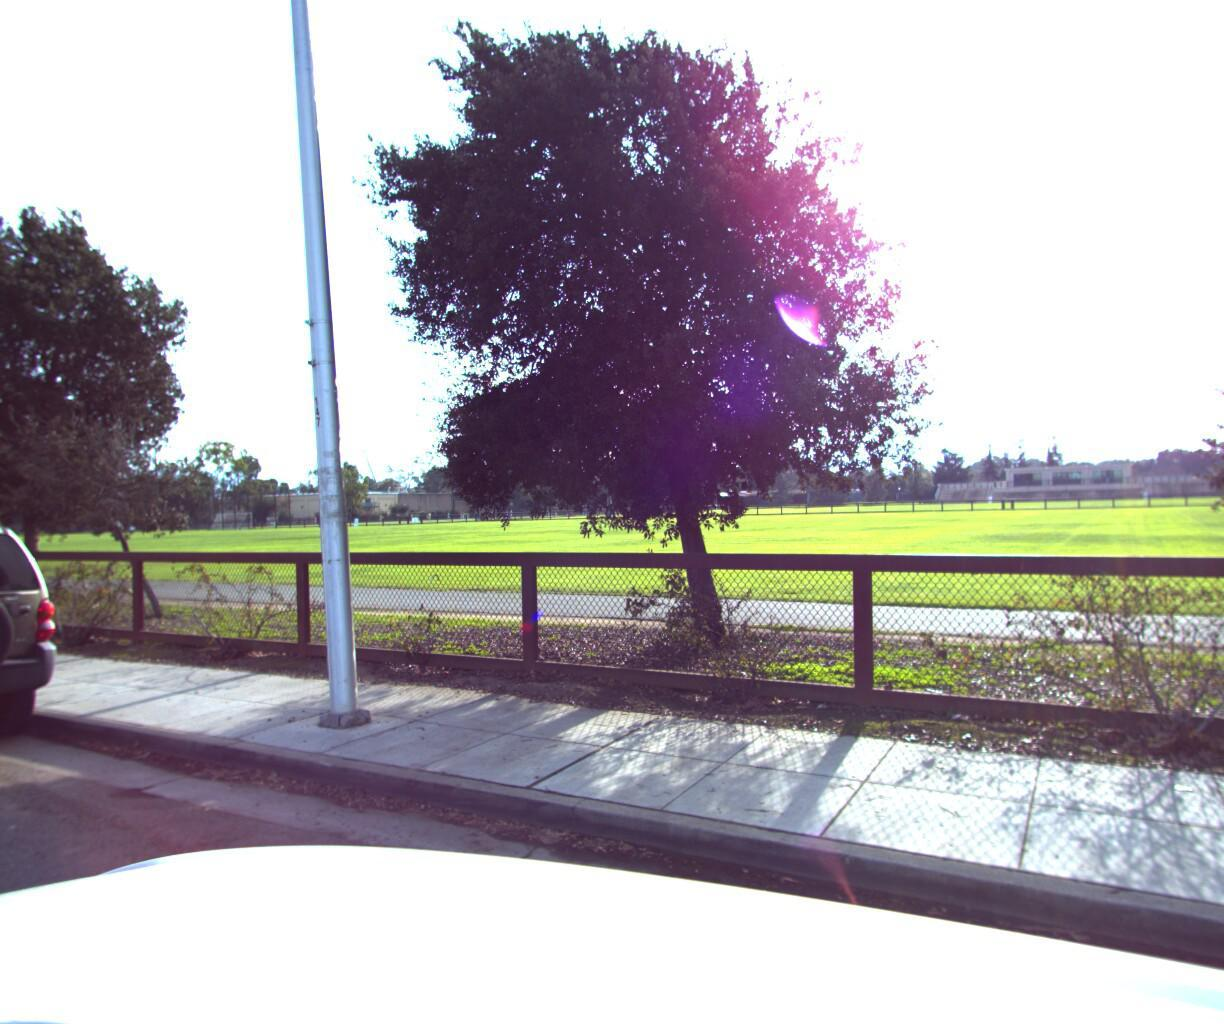car: (0, 503, 100, 814)
